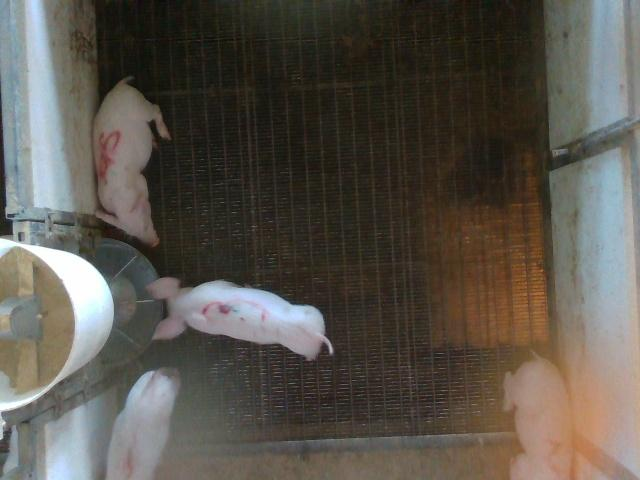pig-1: (504, 355, 572, 479), (107, 368, 181, 479)
pig-3: (148, 278, 334, 359)
pig-5: (94, 76, 171, 246)
